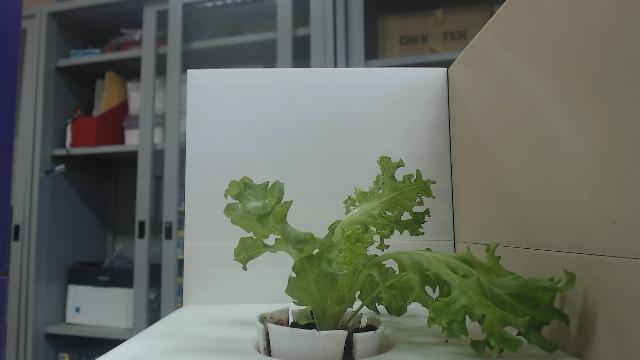Harvest Stage: (223, 153, 577, 360)
